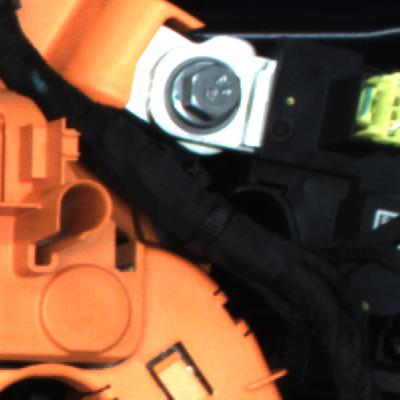nut_b: (159, 44, 252, 145)
